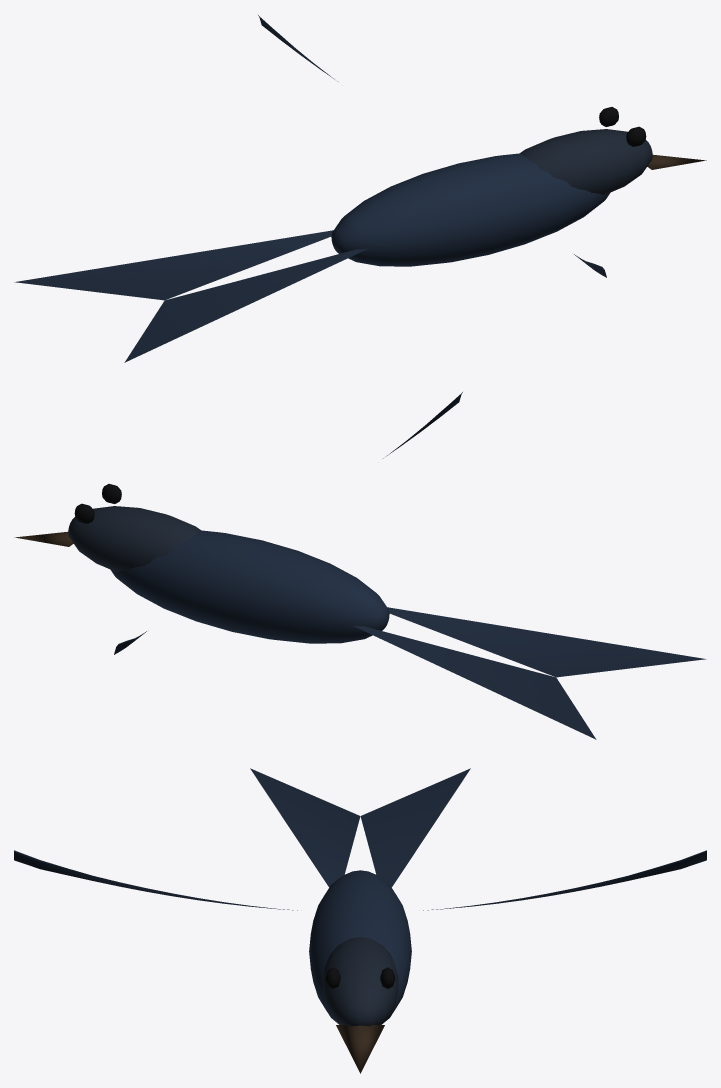
The model's file is SM_DBA_Bird_Swallow_Flight.fbx.
3 views of the same model, one above another, from view 1: azimuth 30°, elevation 25°; view 2: azimuth 150°, elevation 25°; view 3: azimuth 270°, elevation 25° (orthographic).
Parts seen in each view (by area): view 1: SM_DBA_Bird_Swallow; view 2: SM_DBA_Bird_Swallow; view 3: SM_DBA_Bird_Swallow.
Boxes of the visible parts, box(x1,y1,x2,y2) form: SM_DBA_Bird_Swallow: box(14, 15, 706, 362); SM_DBA_Bird_Swallow: box(14, 392, 706, 739); SM_DBA_Bird_Swallow: box(14, 768, 706, 1073).
Size of the model in its own units: 1.06 by 1.14 by 0.208.
